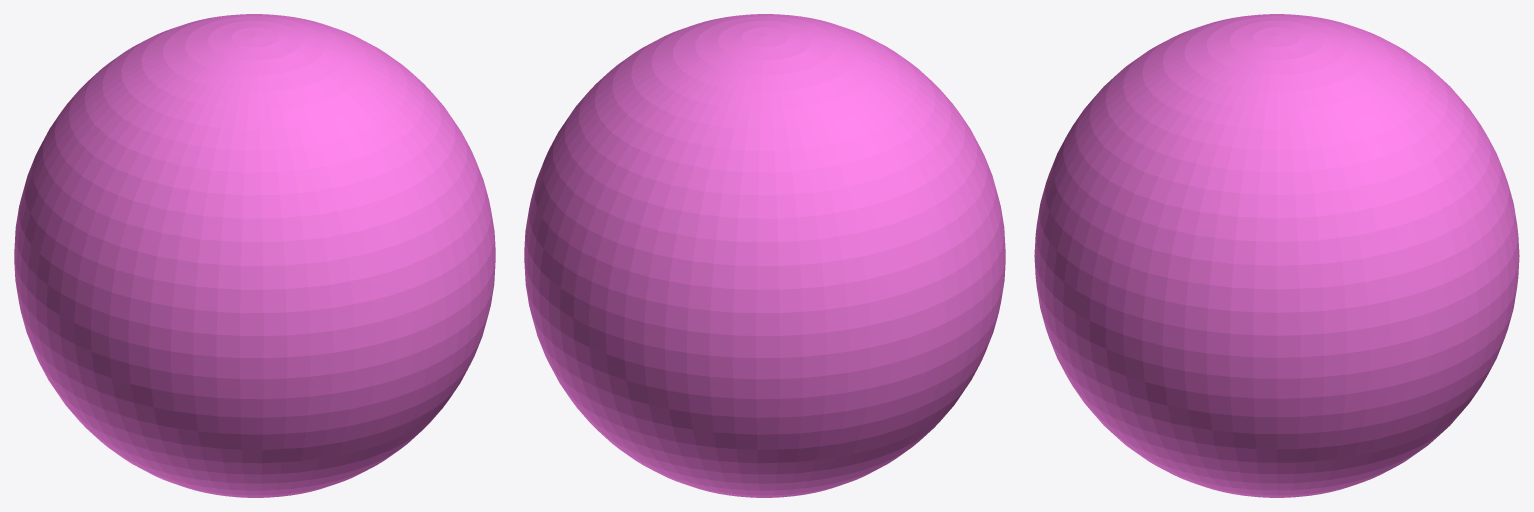
3 renders of one model, left to right at view 1: azimuth 30°, elevation 25°; view 2: azimuth 150°, elevation 25°; view 3: azimuth 270°, elevation 25°, orthographic.
Visible parts, largest first — view 1: Sphere; view 2: Sphere; view 3: Sphere.
Boxes of the visible parts, x1,y1,x2,y2 form: Sphere: (14, 14, 495, 497); Sphere: (524, 14, 1005, 497); Sphere: (1034, 14, 1519, 497).
Size of the model in its own units: 7.72 by 7.78 by 7.78.
1 material, 1 textured.
